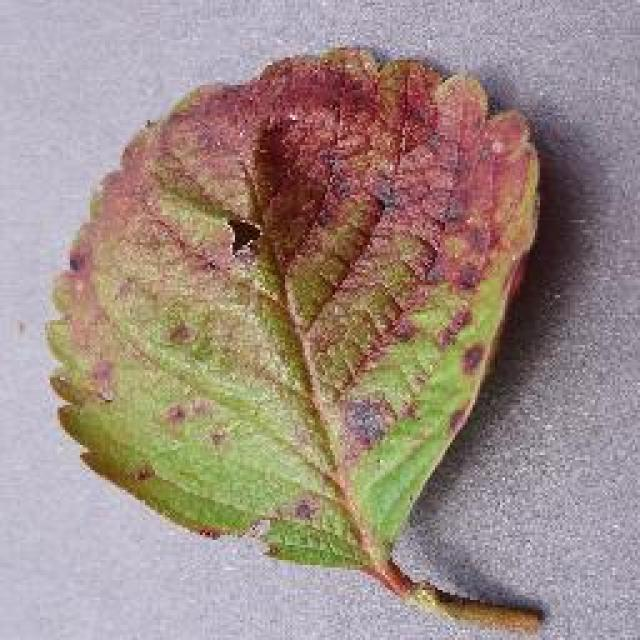Strawberry leaf scorch: (97, 96, 478, 432)
